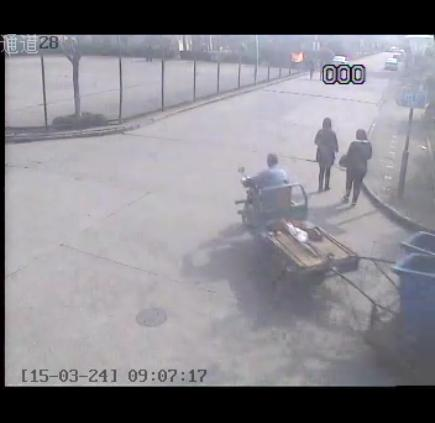person: (338, 127, 376, 209), (312, 116, 341, 193), (255, 150, 292, 184)
